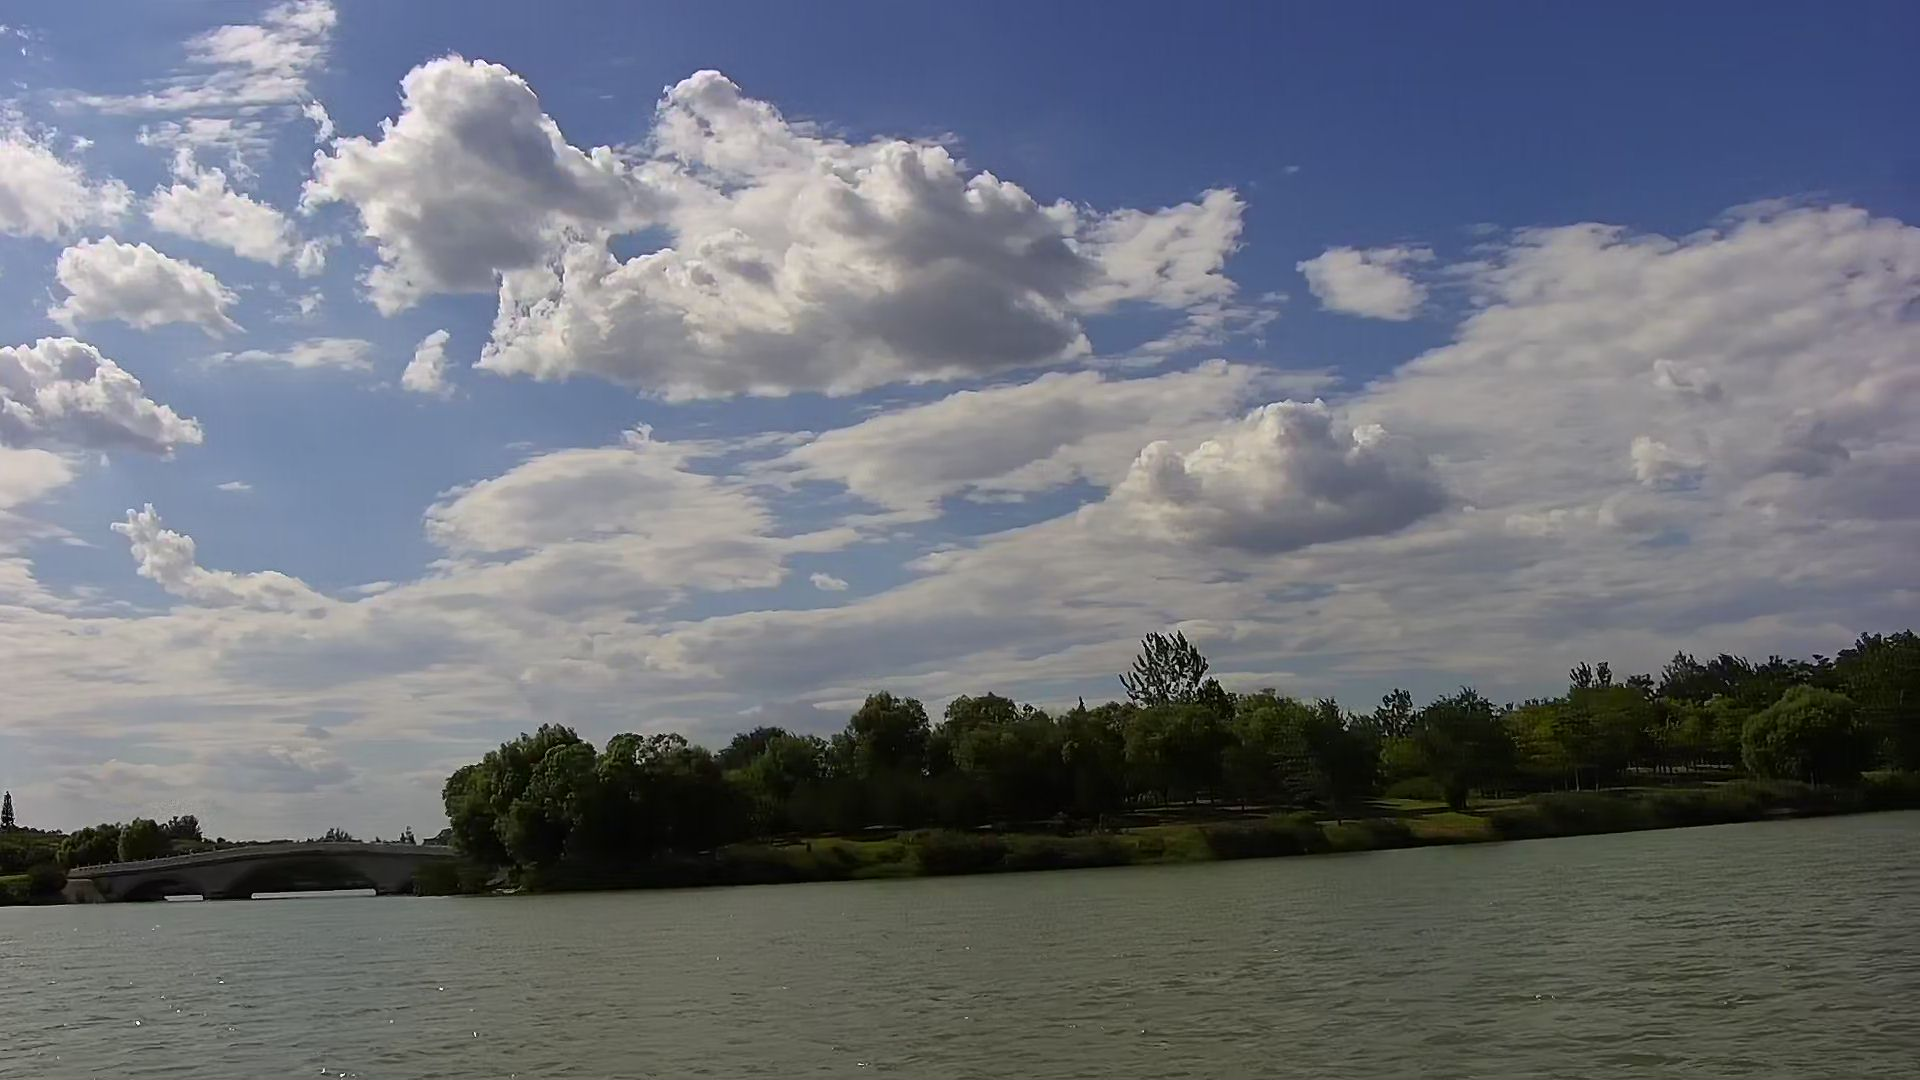bridge: (71, 843, 458, 902)
